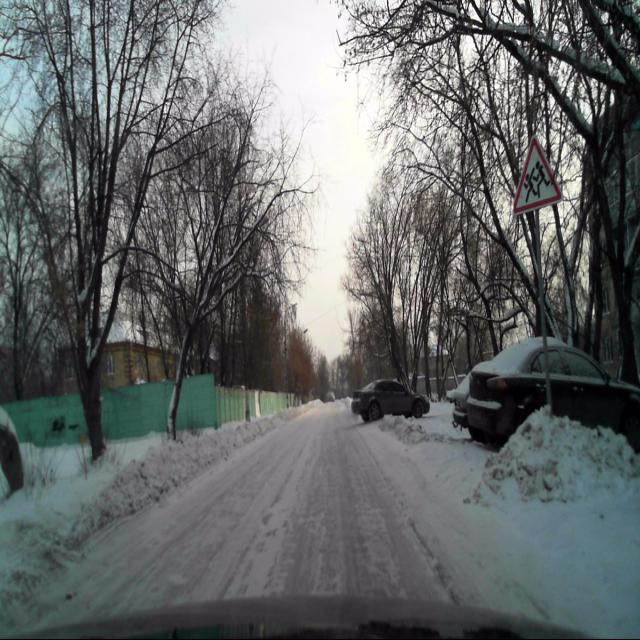road sign: (512, 135, 563, 215), (535, 208, 552, 404)
